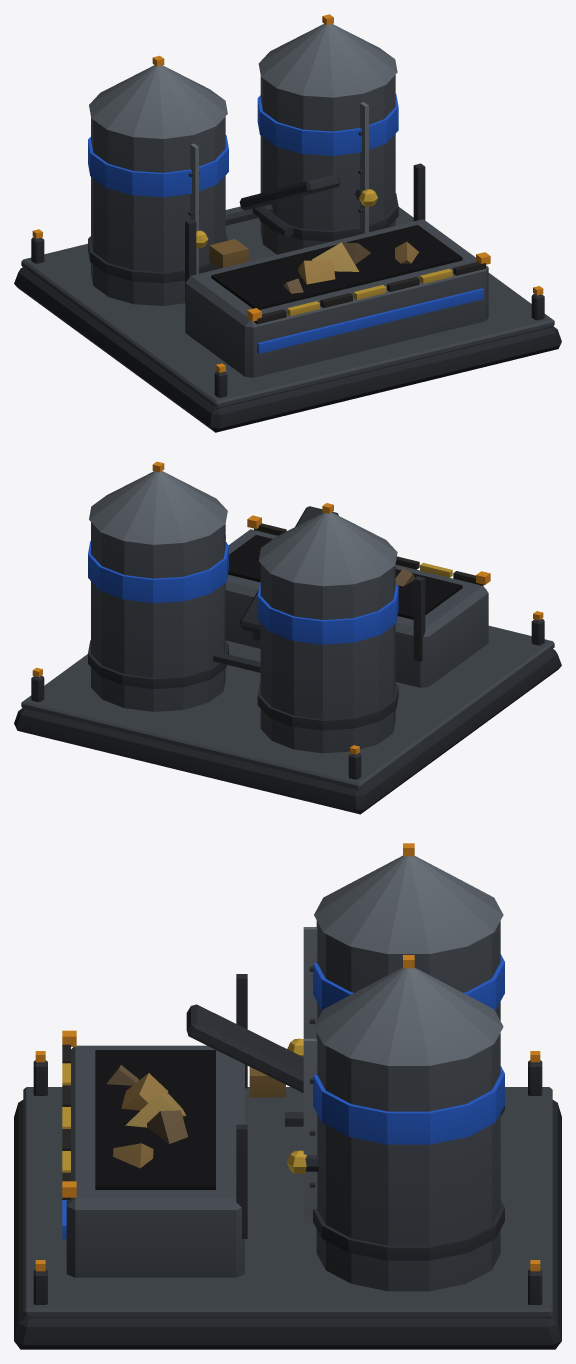
File: depot.glb
The picture shows the model from 3 angles, top to bottom: view 1: azimuth 30°, elevation 25°; view 2: azimuth 150°, elevation 25°; view 3: azimuth 270°, elevation 25°; orthographic projection. The views are drawn at different scales.
Visible parts, largest first — view 1: hull; view 2: hull; view 3: hull.
Boxes of the visible parts, x1,y1,x2,y2 form: hull: [14, 14, 561, 432]; hull: [14, 461, 561, 814]; hull: [14, 843, 561, 1349].
Bounding box in the file's own units: 1.91 × 1.29 × 1.91.
